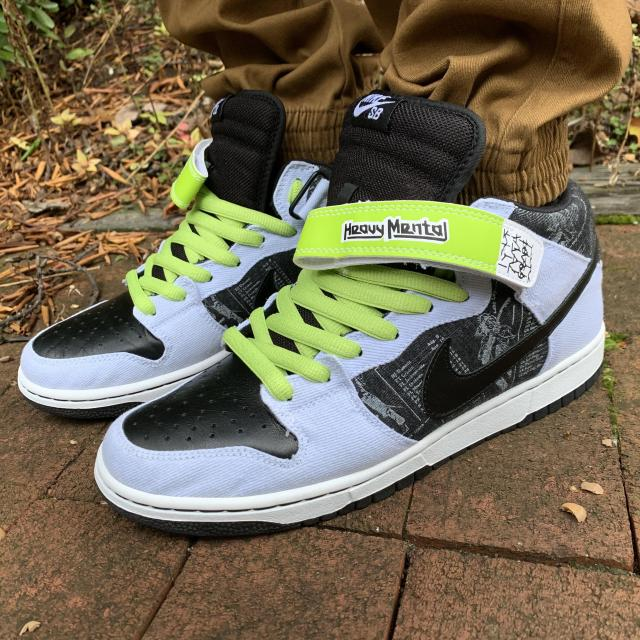shoe: (92, 188, 603, 540), (16, 152, 325, 414)
